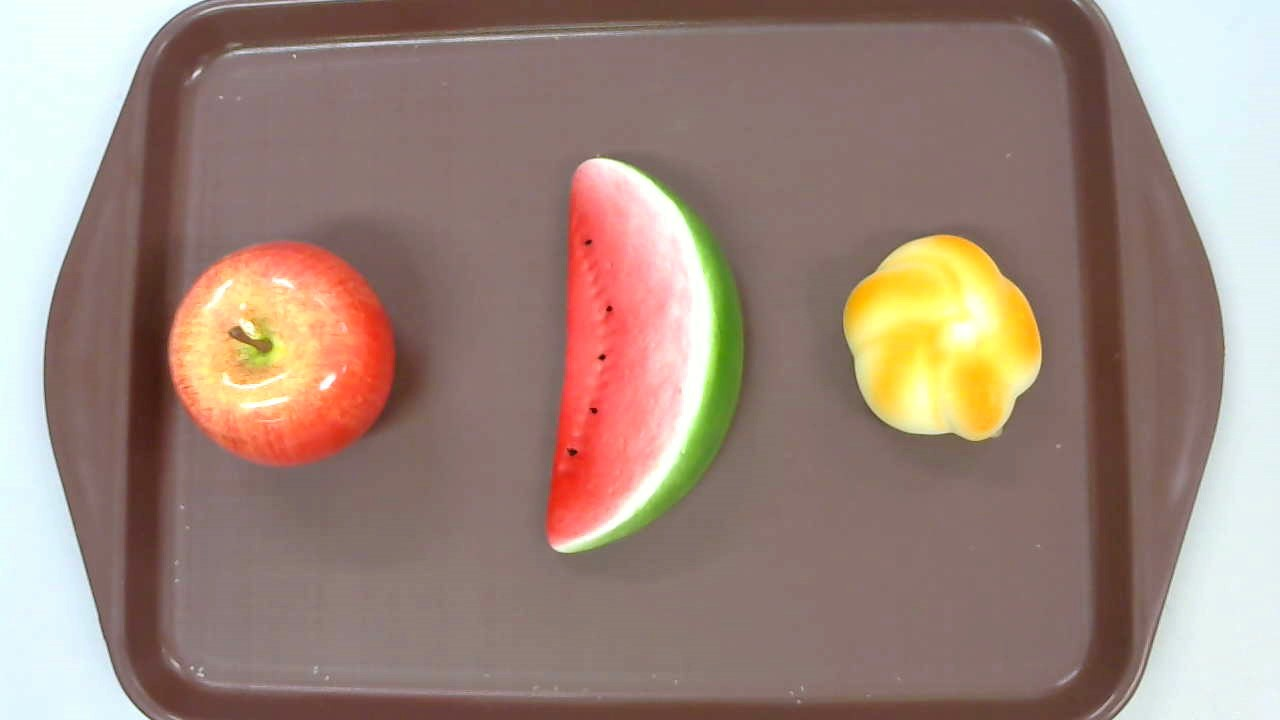red apple: (167, 238, 395, 470)
twist bread: (843, 233, 1041, 441)
watermelon: (545, 157, 745, 558)
